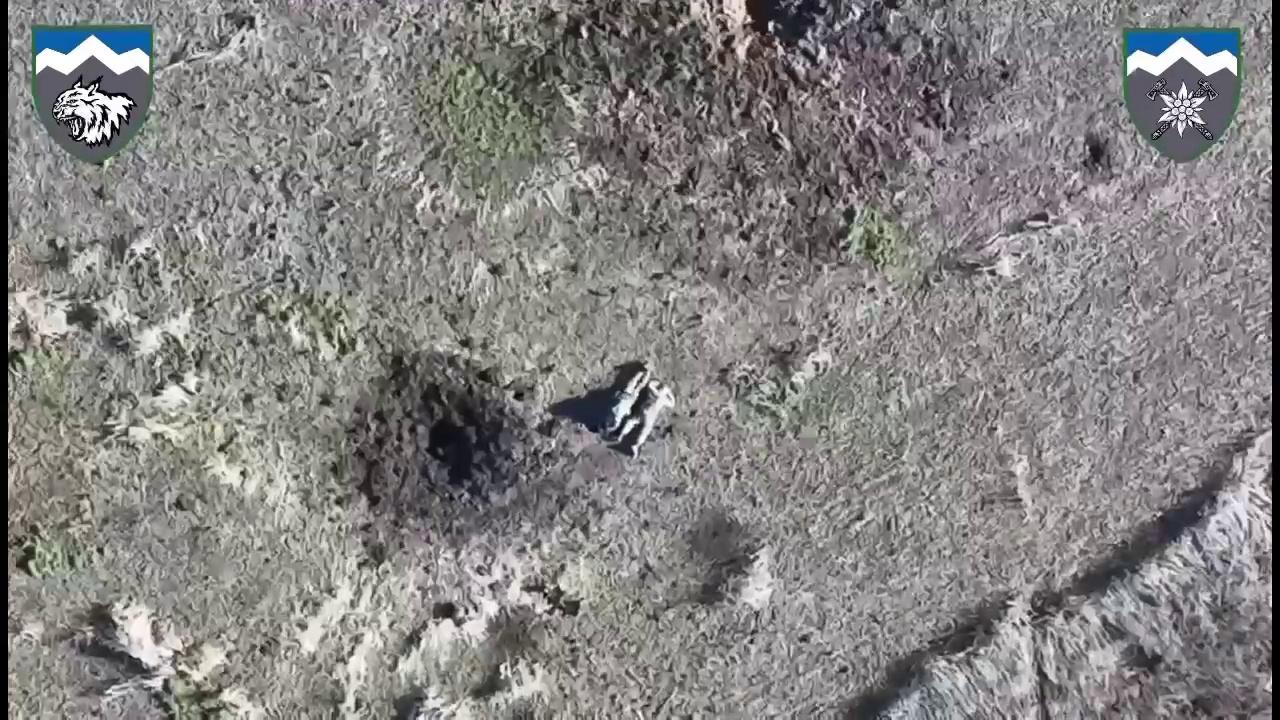person: (606, 382, 674, 452), (604, 364, 651, 434)
